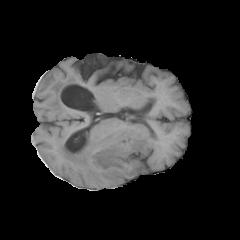glioma: (53, 119, 158, 177)
